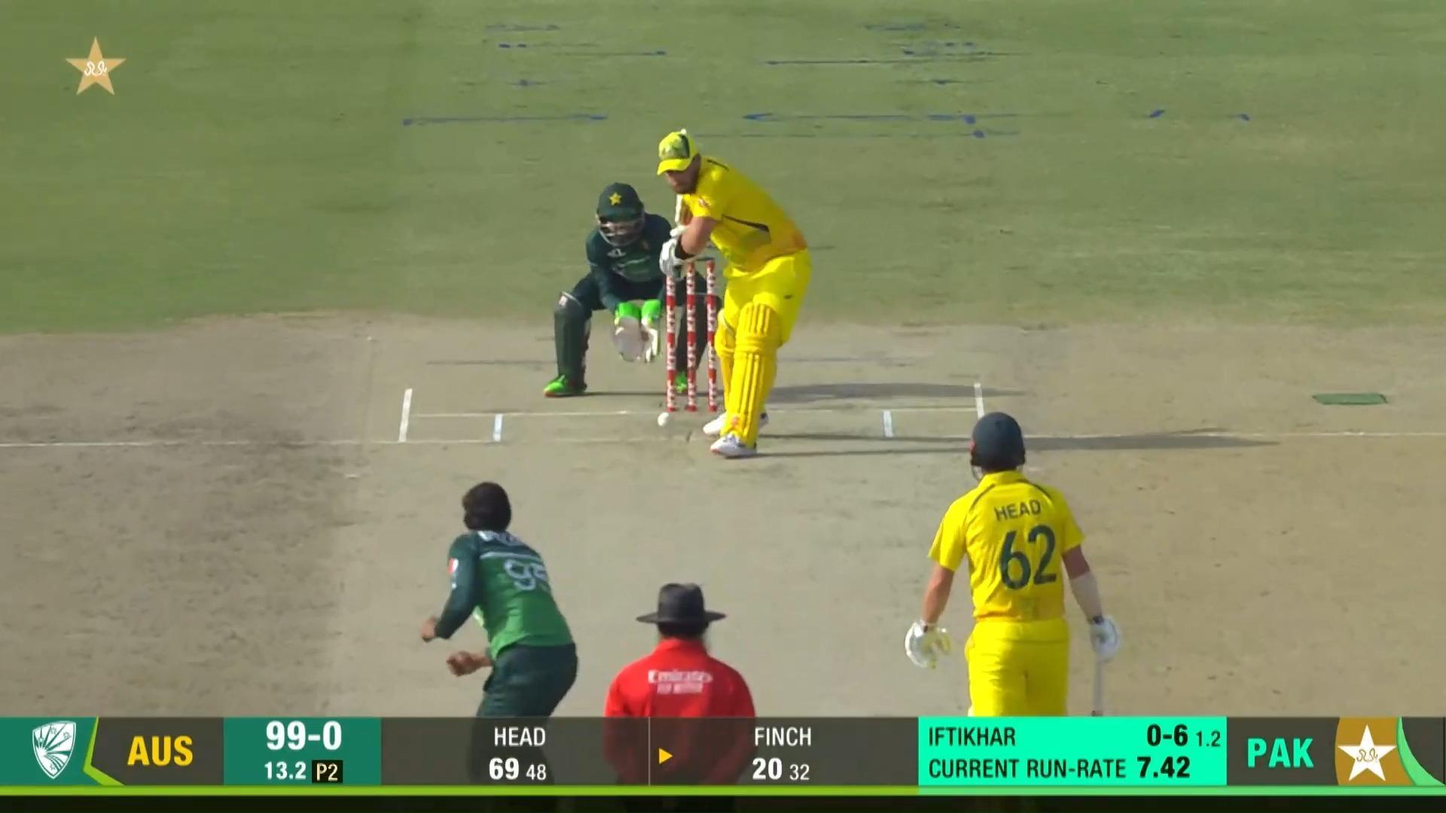BM 1: (656, 127, 810, 458)
BO: (420, 481, 580, 791)
